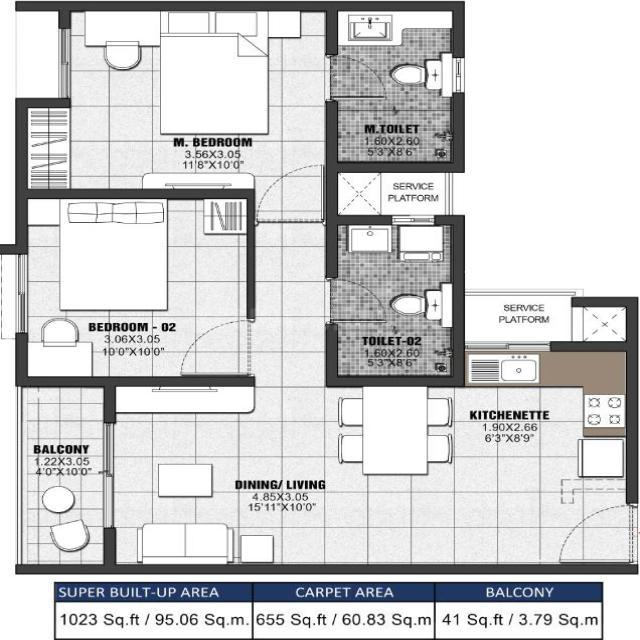Balcony-Sitout: (20, 388, 102, 565)
Bedroom: (29, 201, 247, 375)
Bedroom with Toilet: (26, 9, 453, 220)
Dining: (327, 384, 459, 484)
Enterance-Foyer: (554, 499, 629, 560)
Kitchen: (462, 351, 623, 497)
Living: (116, 388, 278, 566)
Toilet: (339, 13, 451, 162), (339, 225, 448, 373)
